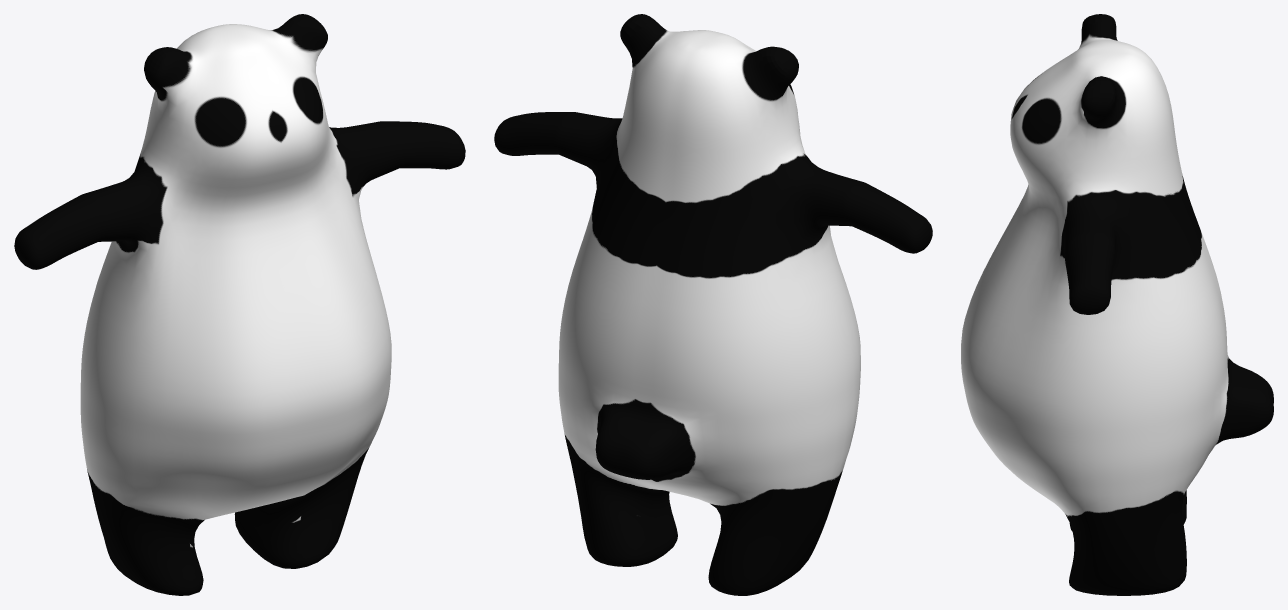
The model's file is panda.fbx.
3 renders of one model, left to right at view 1: azimuth 30°, elevation 25°; view 2: azimuth 150°, elevation 25°; view 3: azimuth 270°, elevation 25°, orthographic. The views are drawn at different scales.
Parts seen in each view (by area): view 1: Plane; view 2: Plane; view 3: Plane.
Boxes of the visible parts, x1,y1,x2,y2 form: Plane: (14,14,465,595); Plane: (494,14,932,595); Plane: (961,14,1273,595).
Size of the model in its own units: 8.33 by 9.84 by 5.4.
